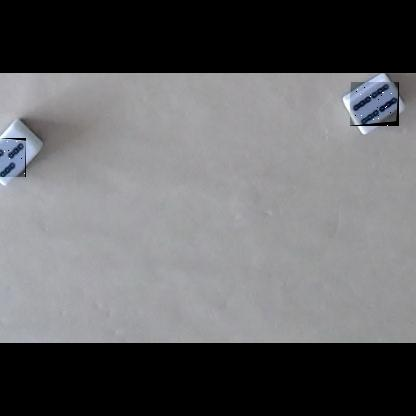3s: (0, 138, 26, 177)
4s: (350, 82, 399, 126)
